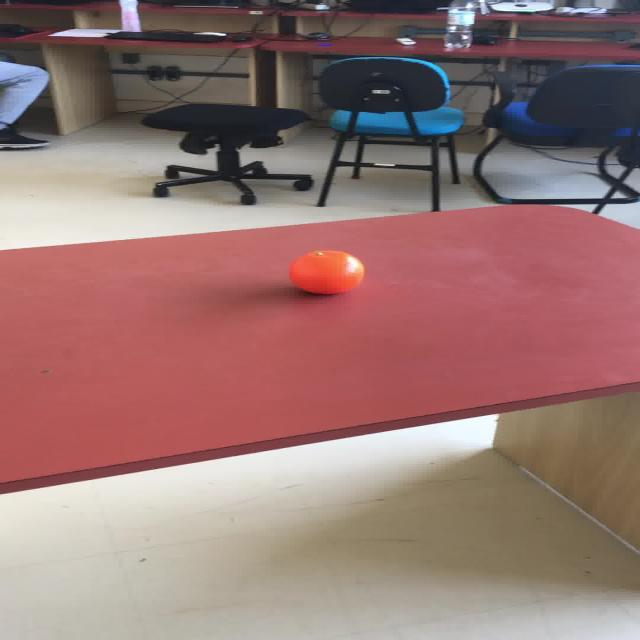orange: (287, 249, 364, 294)
